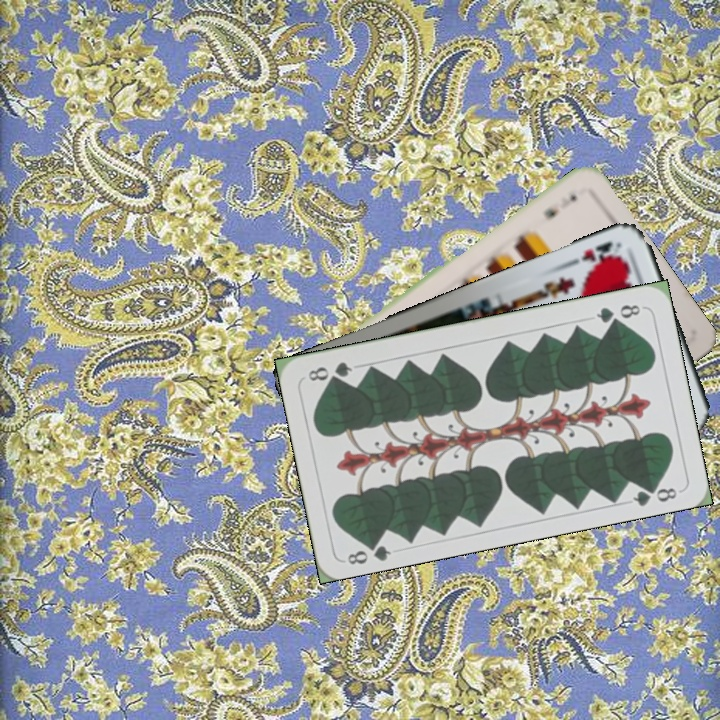E7: (539, 190, 580, 222)
G8: (343, 535, 394, 568), (592, 300, 643, 326)
HK: (565, 237, 624, 270)
